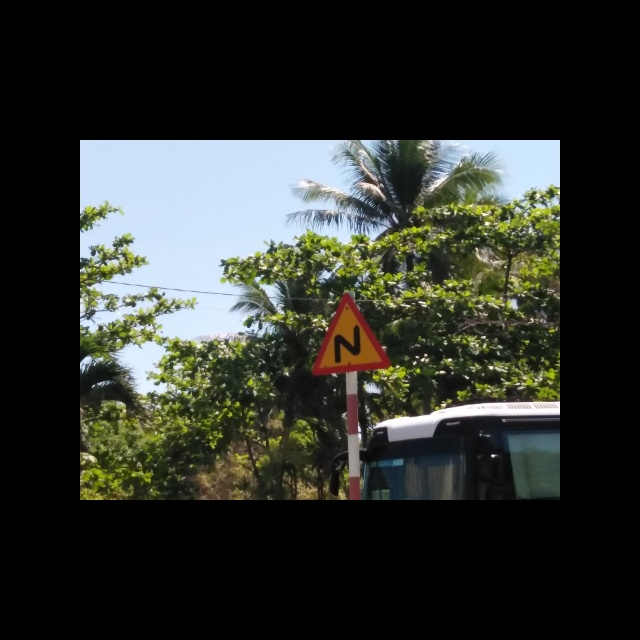Ngoặt nguy hiểm liên tiếp bên phải: (310, 294, 392, 377)
